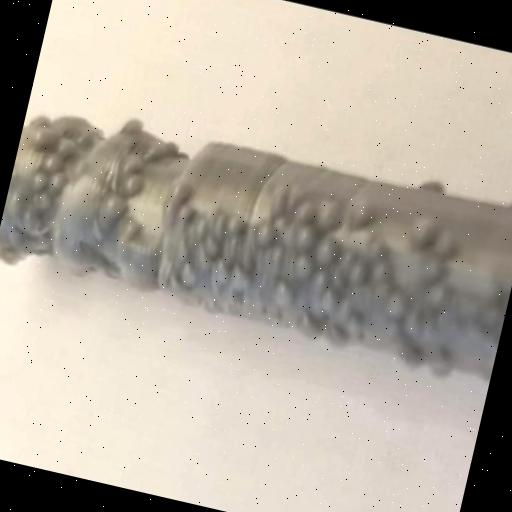blobs: (92, 185, 136, 231), (402, 212, 440, 258), (246, 214, 282, 254), (347, 195, 380, 237), (312, 192, 343, 233), (313, 234, 345, 272), (378, 292, 410, 330), (317, 284, 348, 322), (292, 216, 322, 254), (344, 260, 375, 295), (201, 230, 231, 266), (267, 279, 298, 313), (287, 250, 316, 285), (168, 175, 197, 208), (229, 268, 257, 298), (208, 258, 234, 290), (119, 171, 147, 200), (43, 168, 69, 198), (24, 166, 50, 194), (120, 114, 146, 142), (174, 260, 200, 288), (57, 134, 84, 160), (33, 123, 57, 152), (176, 197, 200, 226), (226, 214, 250, 242), (38, 148, 62, 174), (122, 220, 144, 244), (128, 155, 150, 177)
